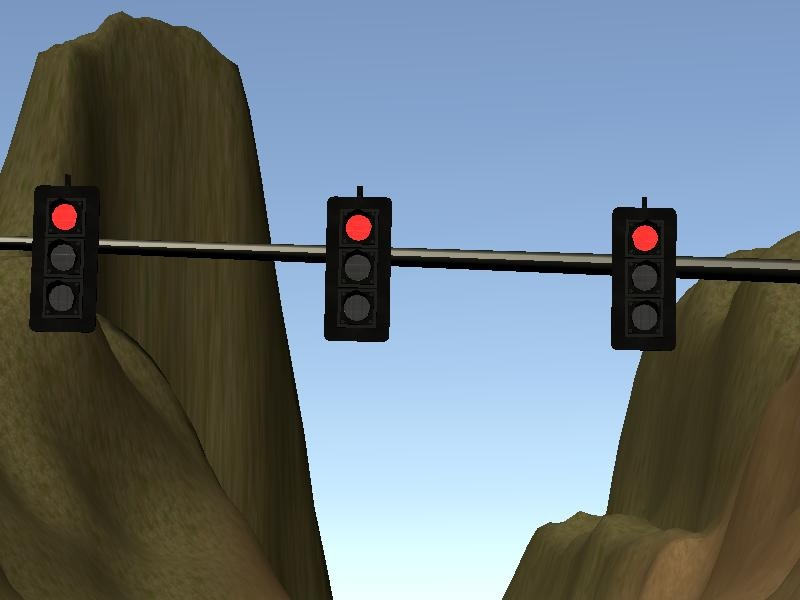RED: (26, 181, 101, 333), (321, 193, 396, 345), (605, 203, 680, 355)
